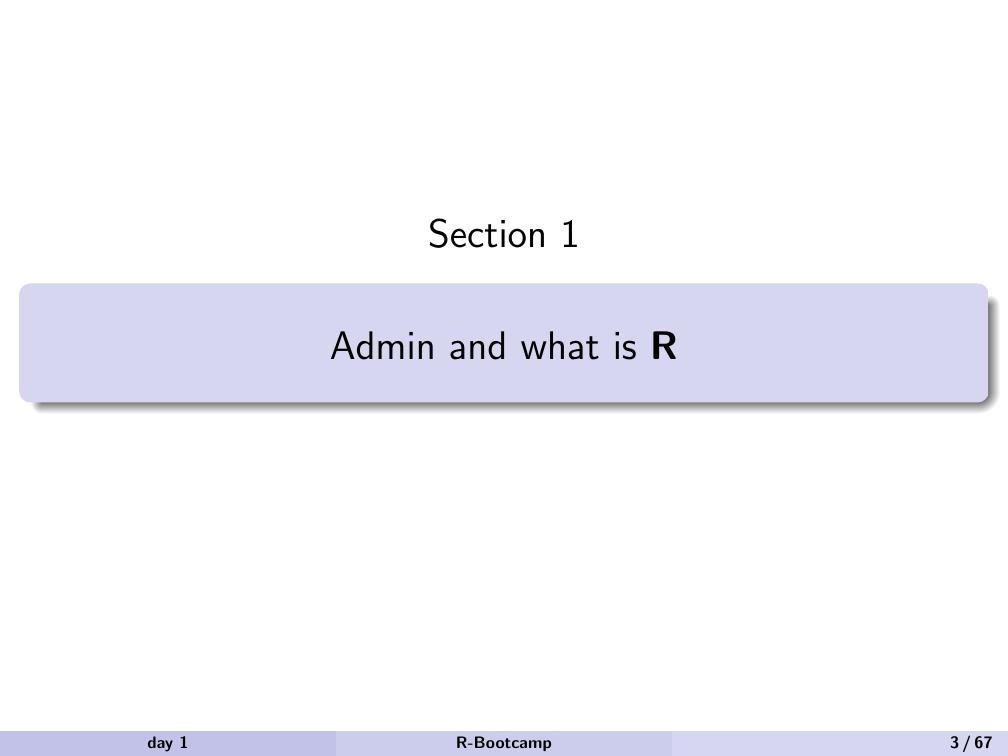Title: (318, 325, 692, 372)
